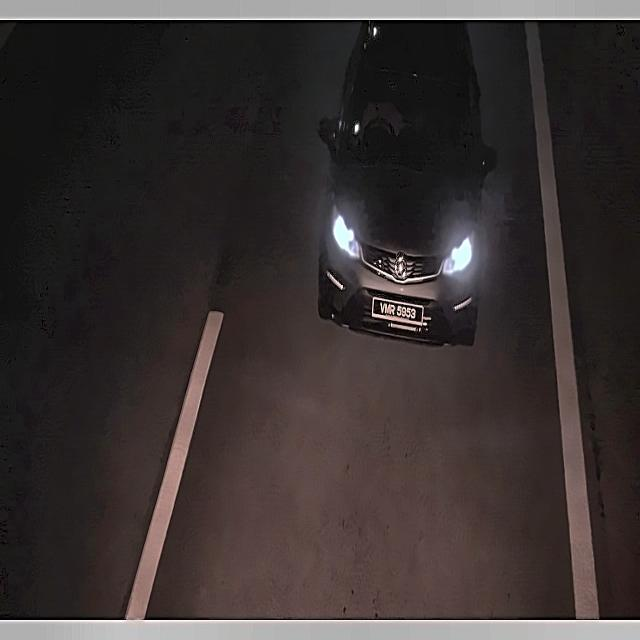car: (366, 284, 432, 331)
